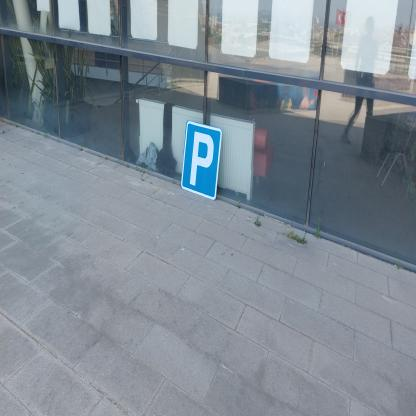Parking-Sign: (182, 121, 224, 201)
